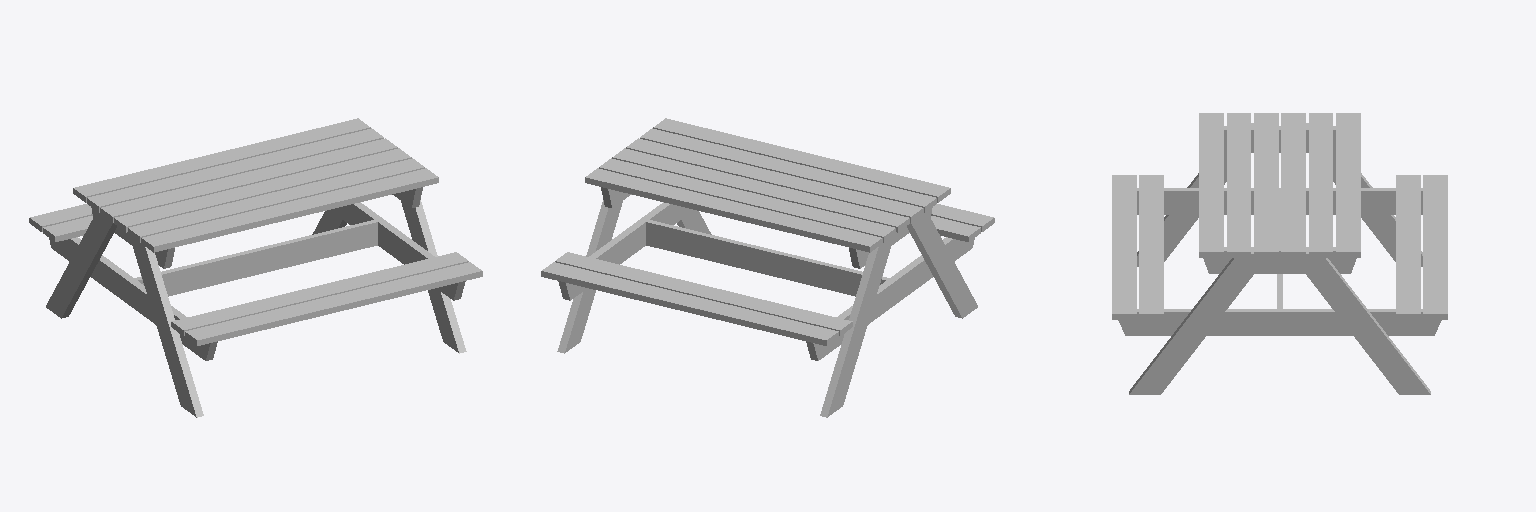
Rendered from table.obj.
3 views of the same model, side by side, from view 1: azimuth 30°, elevation 25°; view 2: azimuth 150°, elevation 25°; view 3: azimuth 270°, elevation 25° (orthographic).
Visible parts, largest first — view 1: Table; view 2: Table; view 3: Table.
Boxes of the visible parts, box(x1,y1,x2,y2) form: Table: box(29, 118, 482, 417); Table: box(541, 118, 994, 417); Table: box(1112, 113, 1447, 394).
Size of the model in its own units: 5.23 by 2.58 by 5.34.